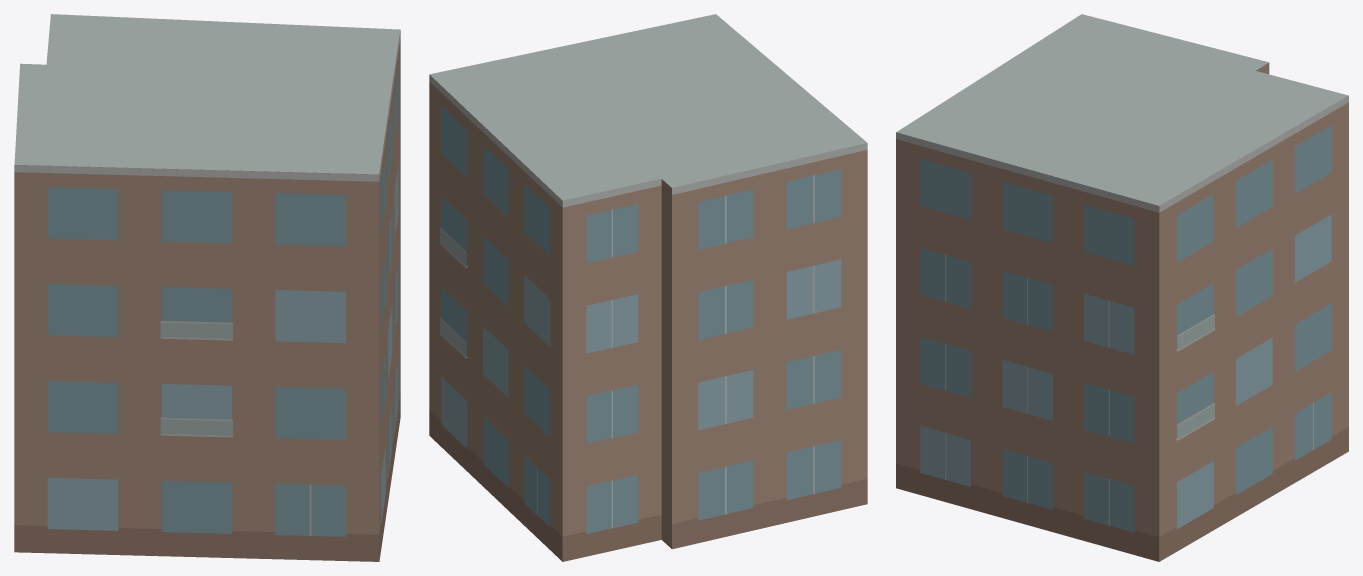
Rendered from survey-upis-32973443.glb.
The picture shows the model from 3 angles, left to right: view 1: azimuth 30°, elevation 25°; view 2: azimuth 150°, elevation 25°; view 3: azimuth 270°, elevation 25°; orthographic projection. The views are drawn at different scales.
Visible parts, largest first — view 1: survey-upis-32973443.tmp; view 2: survey-upis-32973443.tmp; view 3: survey-upis-32973443.tmp.
Part boxes in pixels (left/top/right/bottom): survey-upis-32973443.tmp: left=14, top=14, right=400, bottom=561; survey-upis-32973443.tmp: left=429, top=14, right=867, bottom=561; survey-upis-32973443.tmp: left=896, top=14, right=1348, bottom=561.
Bounding box in the file's own units: 14.81 × 12.8 × 14.76.
